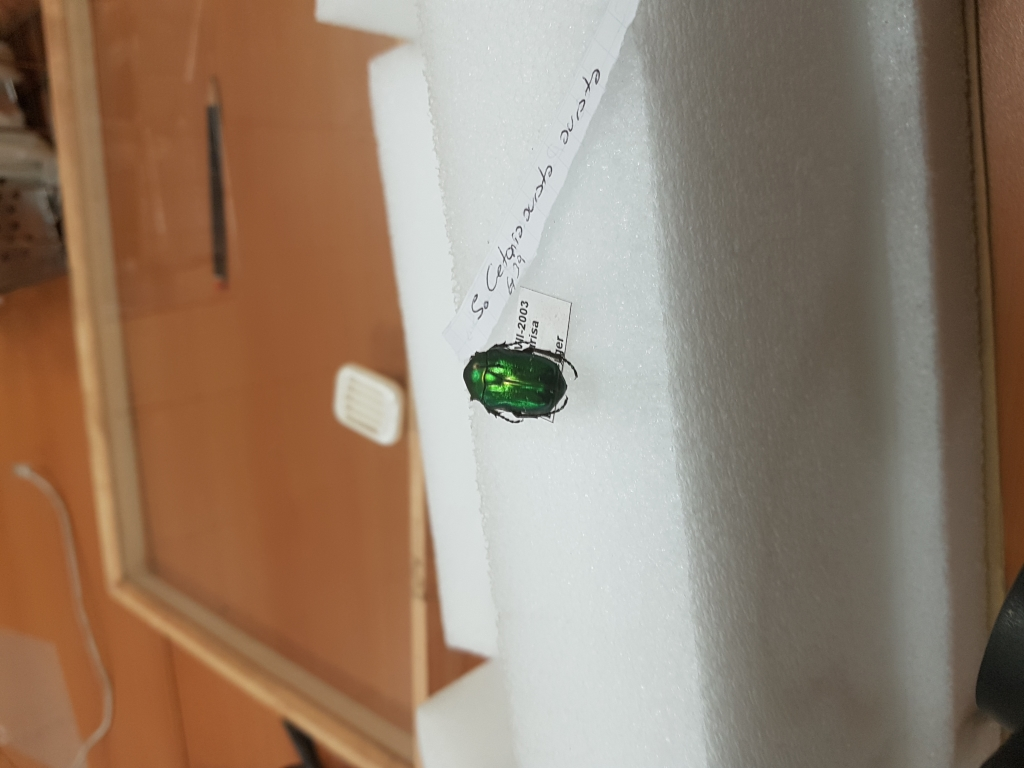Cetonia_aurata: (452, 331, 583, 425)
